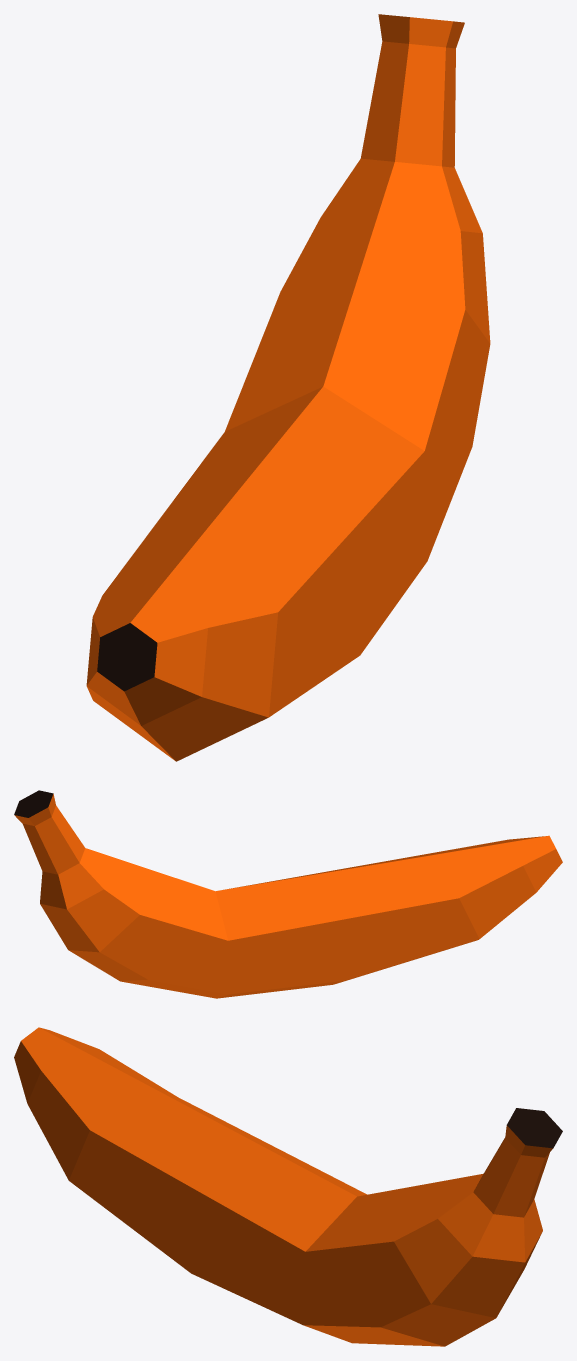
Rendered from banana.obj.
3 views of the same model, one above another, from view 1: azimuth 30°, elevation 25°; view 2: azimuth 150°, elevation 25°; view 3: azimuth 270°, elevation 25° (orthographic). The views are drawn at different scales.
Parts seen in each view (by area): view 1: Icosphere.002; view 2: Icosphere.002; view 3: Icosphere.002.
Part boxes in pixels (x1,y1,x2,y2): Icosphere.002: (86, 14, 490, 761); Icosphere.002: (14, 790, 562, 998); Icosphere.002: (14, 1027, 562, 1346).
Bounding box in the file's own units: 1.65 × 0.9775 × 1.61.
